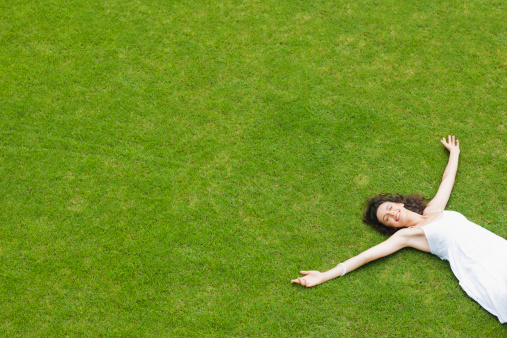deitado: (286, 150, 507, 324)
